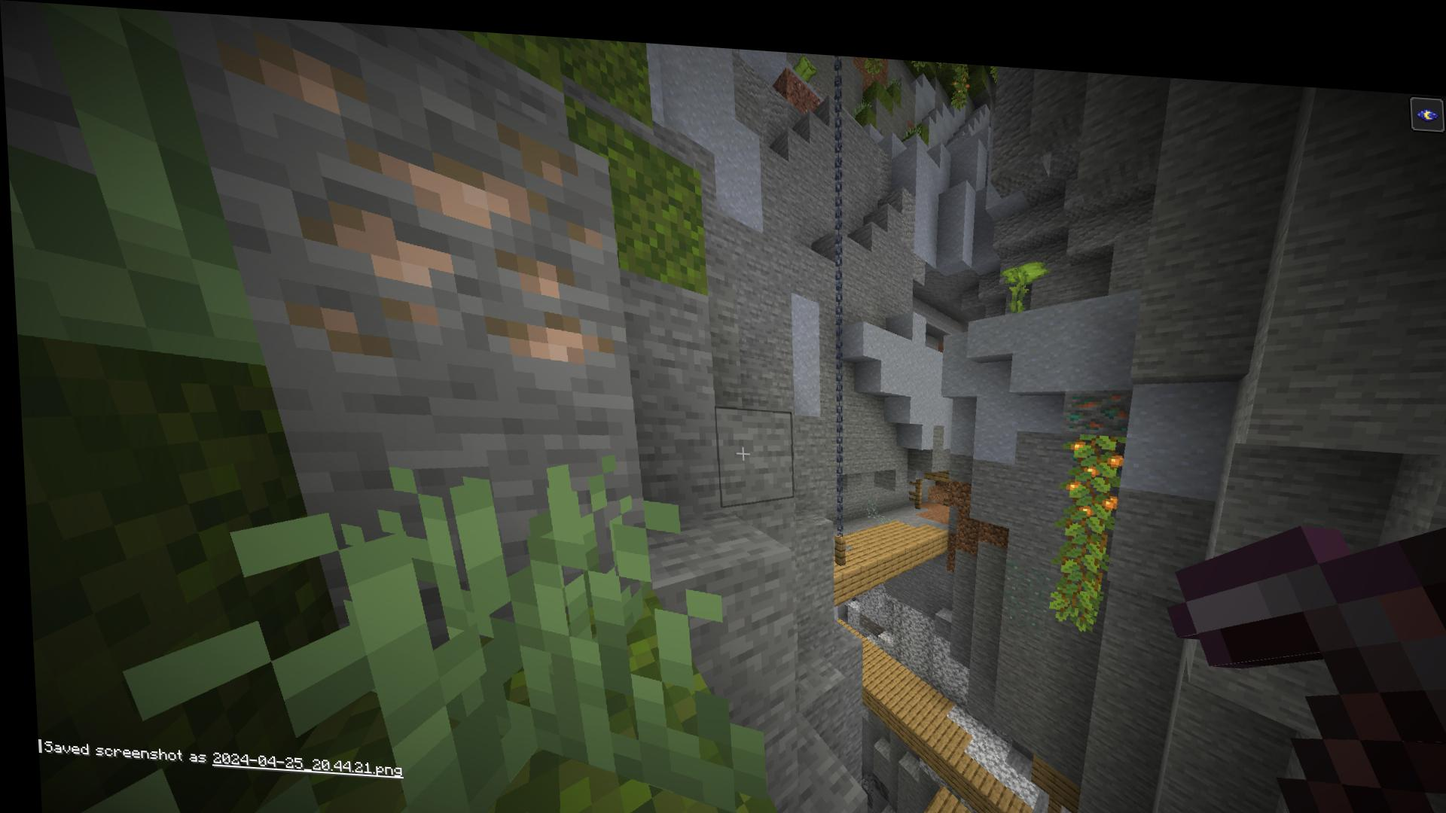iron ore: (213, 28, 615, 363)
